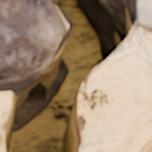broken_brick: (0, 0, 63, 93), (141, 24, 151, 32)
crack: (0, 0, 151, 151)
